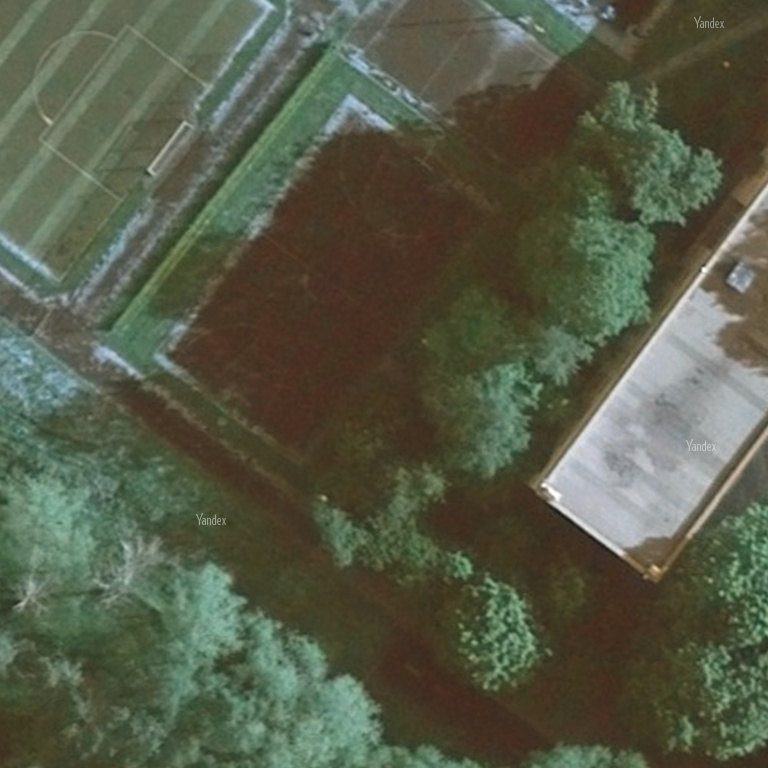basket_court: (156, 94, 505, 464)
